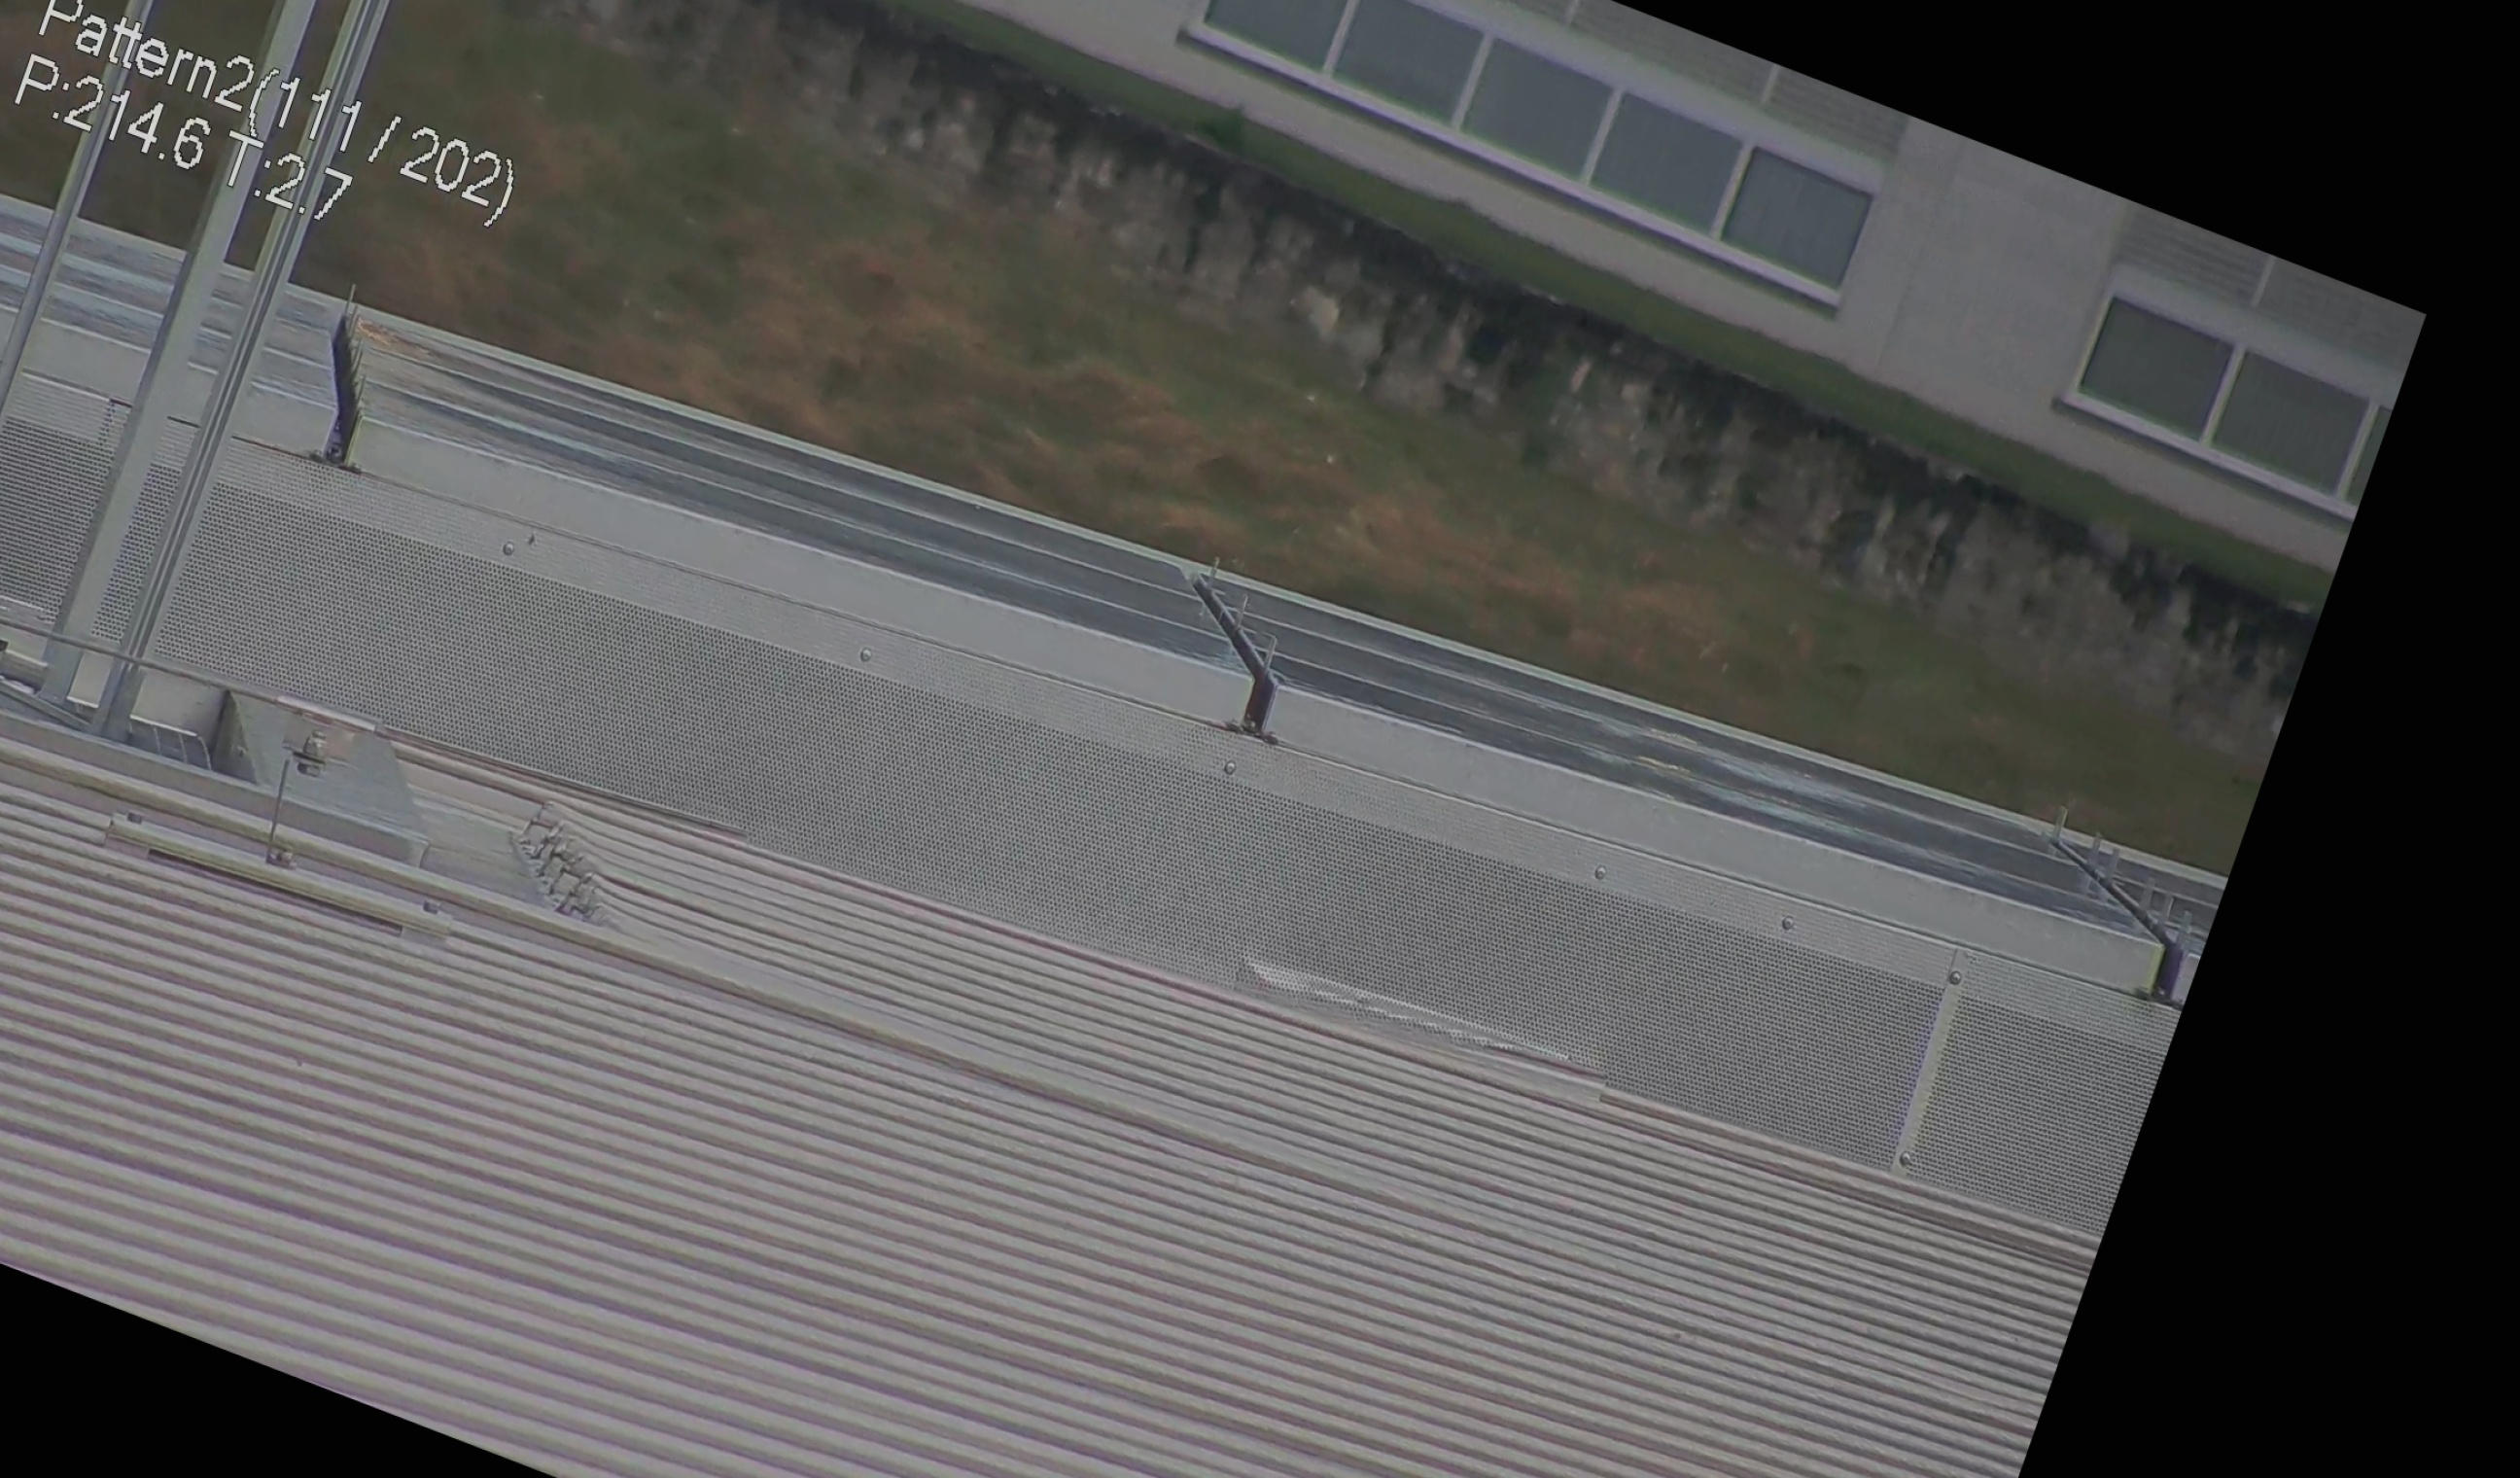Other: (257, 266, 410, 477)
